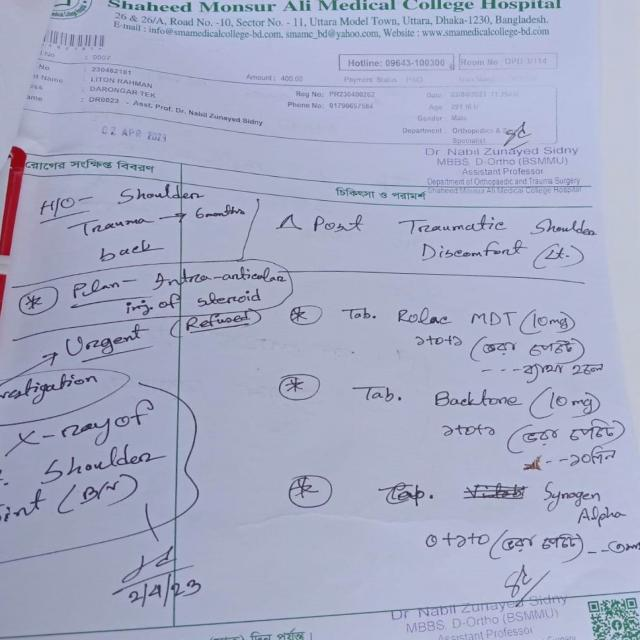Backtone: (431, 384, 525, 416)
Rolac MDT: (387, 302, 517, 335)
Synogen Alfa: (535, 472, 630, 528)
